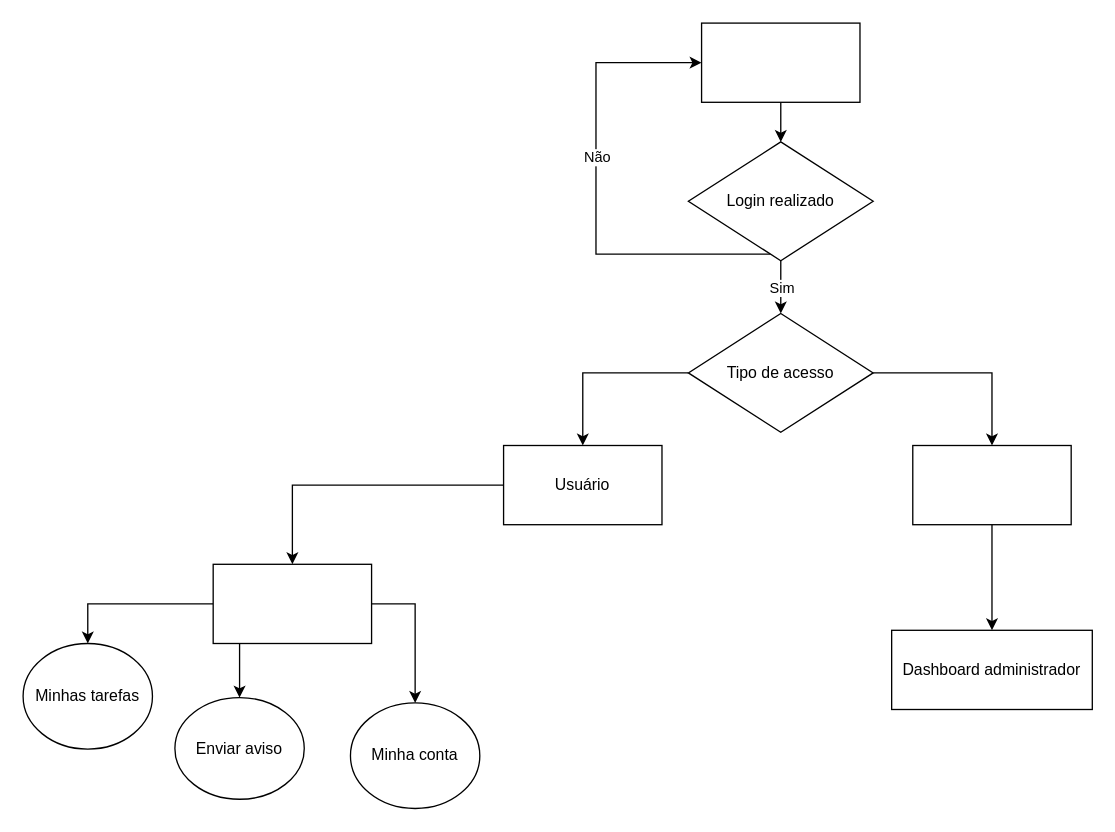
This 1115x832 diagram has some shape labels left out. The centre of each missing label's shape, as x and y in pixels:
Administrador: the point at 991,484
Dashboard usuário: the point at 292,603
Tela de login: the point at 780,62
